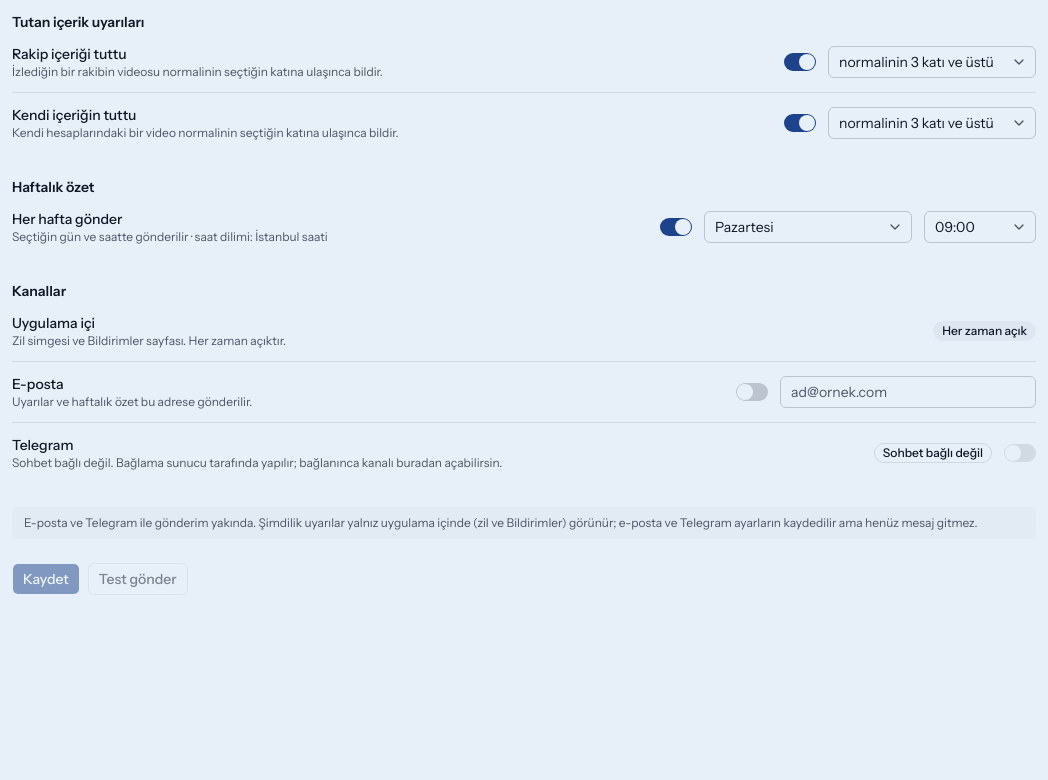
Test: AlertSettingsForm: kayıt › anahtar değişince Kaydet açılır; yalnız değişen alan sunucu action'ına gider ve toast gösterilir
Click the switch named "Kendi içeriğin tuttu" at (800, 123), box left=784, top=114, right=816, bottom=132
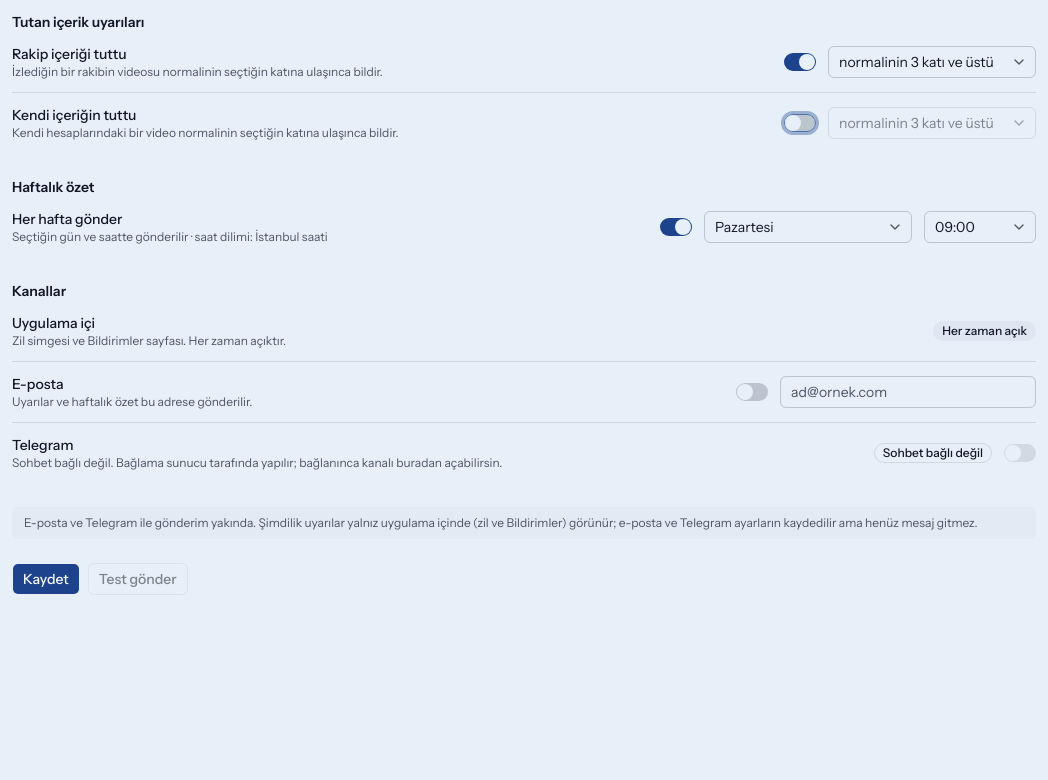
Click the button "Kaydet" at (46, 579), box left=12, top=563, right=80, bottom=595
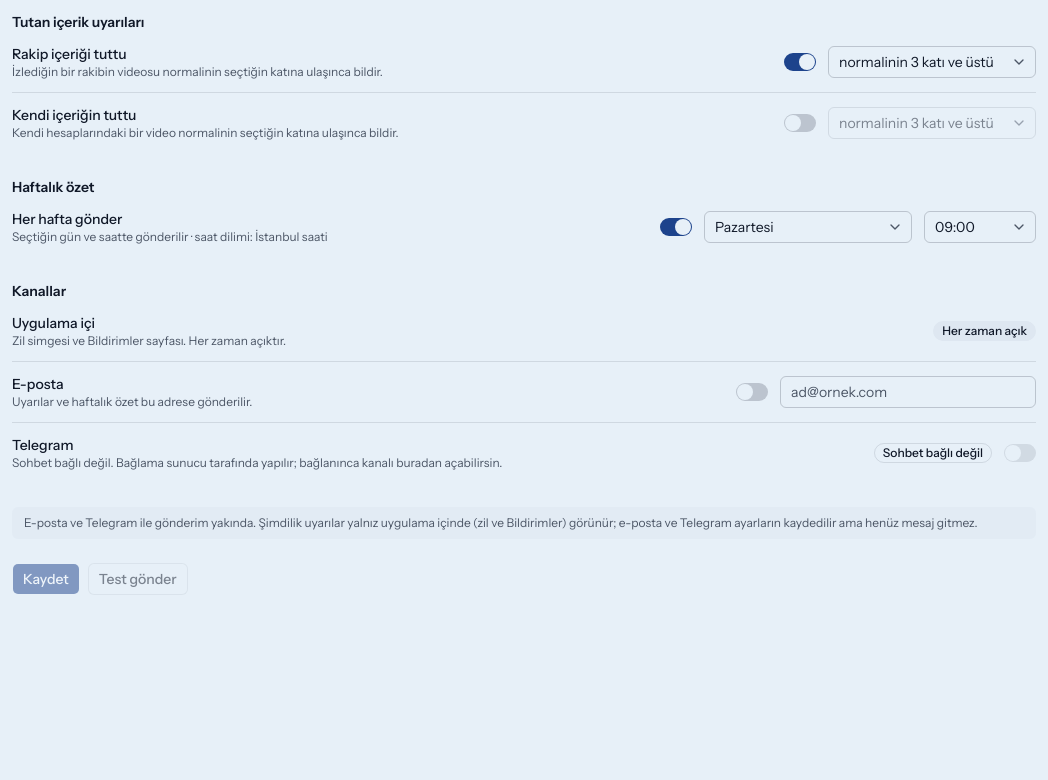
Now the button "Kaydet" is disabled, box left=12, top=563, right=80, bottom=595
